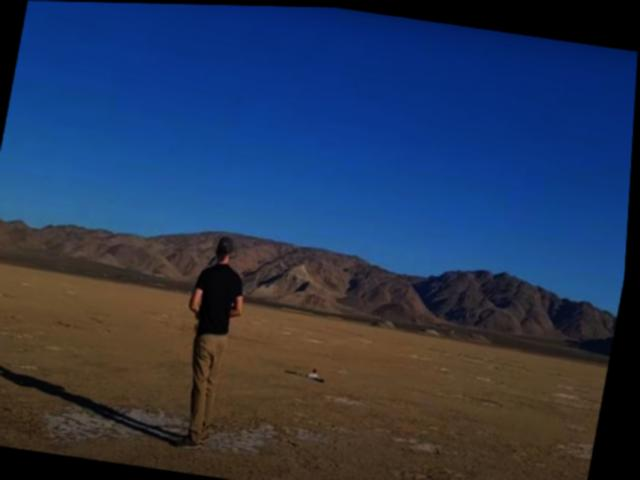iha: (287, 359, 336, 386)
